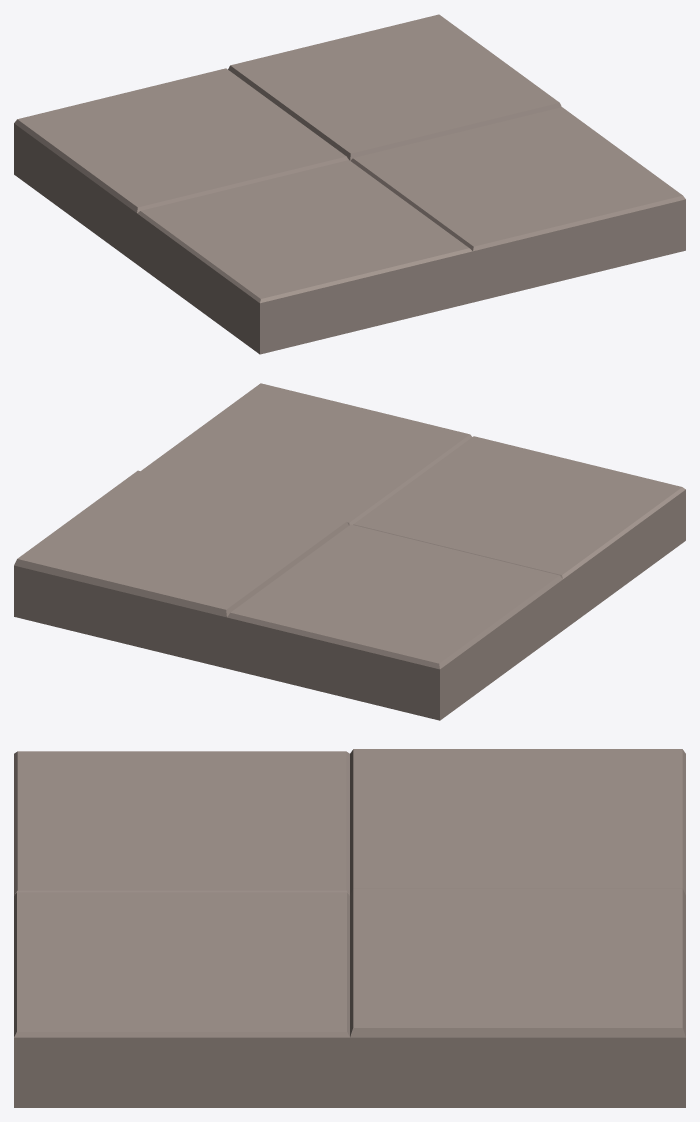
The model's file is empty.fbx.
3 views of the same model, one above another, from view 1: azimuth 30°, elevation 25°; view 2: azimuth 150°, elevation 25°; view 3: azimuth 270°, elevation 25° (orthographic). The views are drawn at different scales.
Parts seen in each view (by area): view 1: Plane.004; view 2: Plane.004; view 3: Plane.004.
Boxes of the visible parts, x1=… form: Plane.004: x1=14, y1=14, x2=685, y2=354; Plane.004: x1=14, y1=383, x2=685, y2=720; Plane.004: x1=14, y1=749, x2=685, y2=1107.
Size of the model in its own units: 200 by 25.82 by 200.
